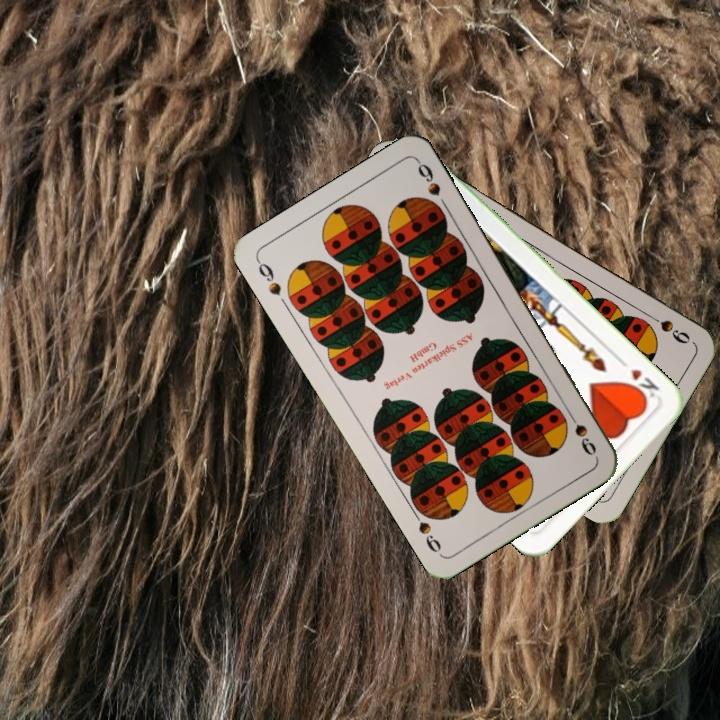HK: (614, 354, 662, 406)
S9: (641, 308, 693, 347), (562, 405, 599, 459), (253, 256, 284, 299)
